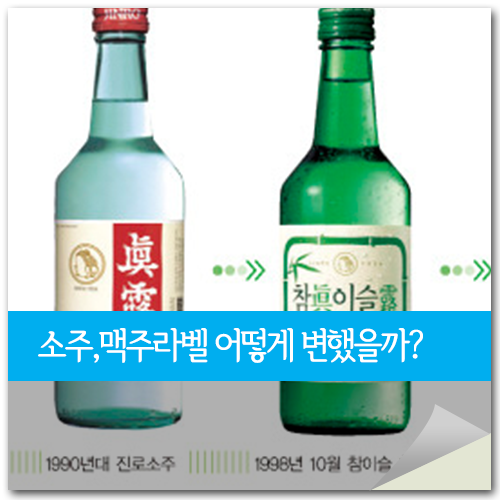soju: (275, 5, 418, 441), (43, 5, 188, 429)
